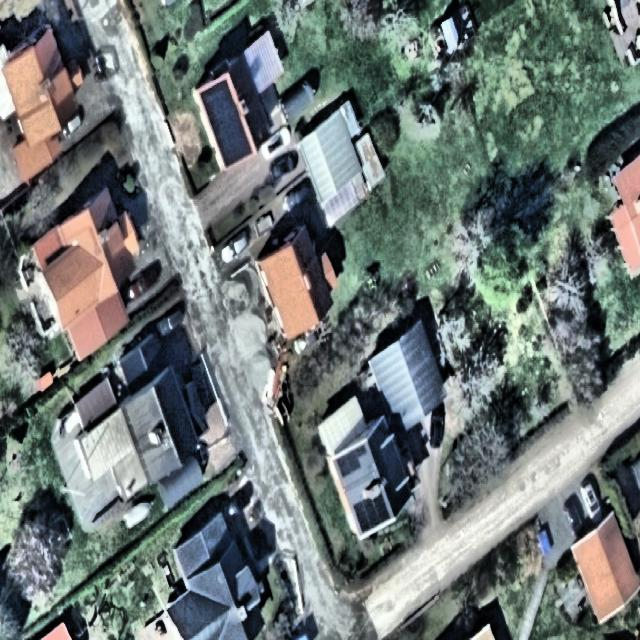roof_pv: (208, 117, 255, 170), (199, 76, 244, 116), (352, 492, 392, 534), (334, 443, 370, 478)
